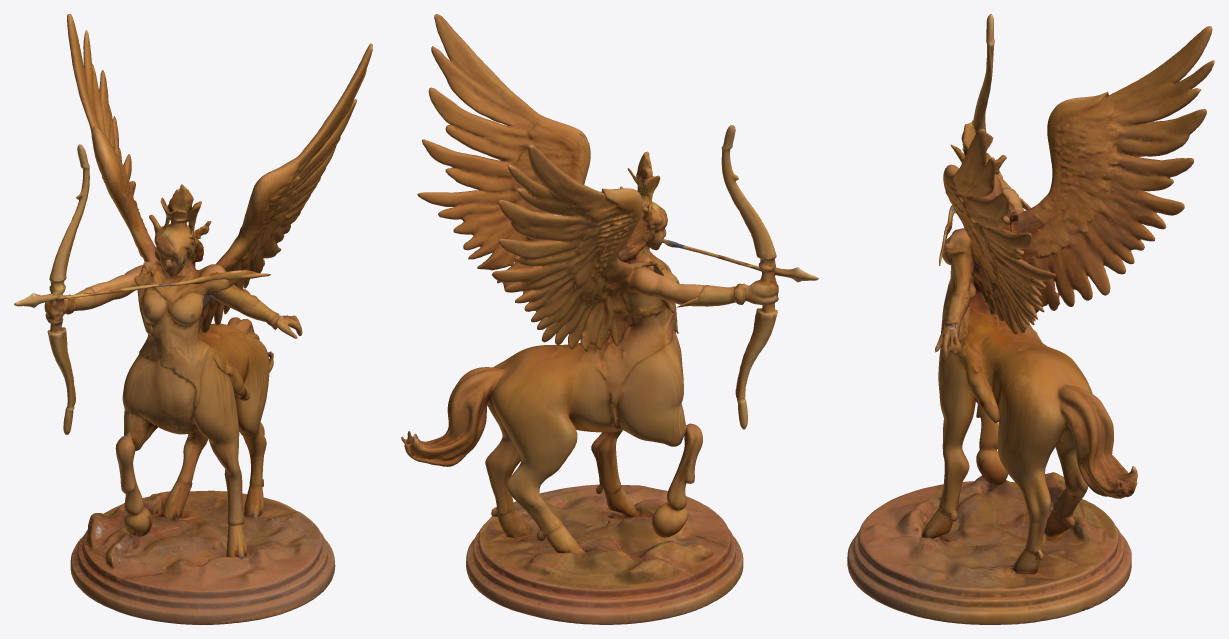
File: HYPER_JUMPER.glb
The picture shows the model from 3 angles, left to right: view 1: azimuth 30°, elevation 25°; view 2: azimuth 150°, elevation 25°; view 3: azimuth 270°, elevation 25°; orthographic projection. The views are drawn at different scales.
Size of the model in its own units: 1.56 by 2 by 1.27.
1 material, 1 textured.
